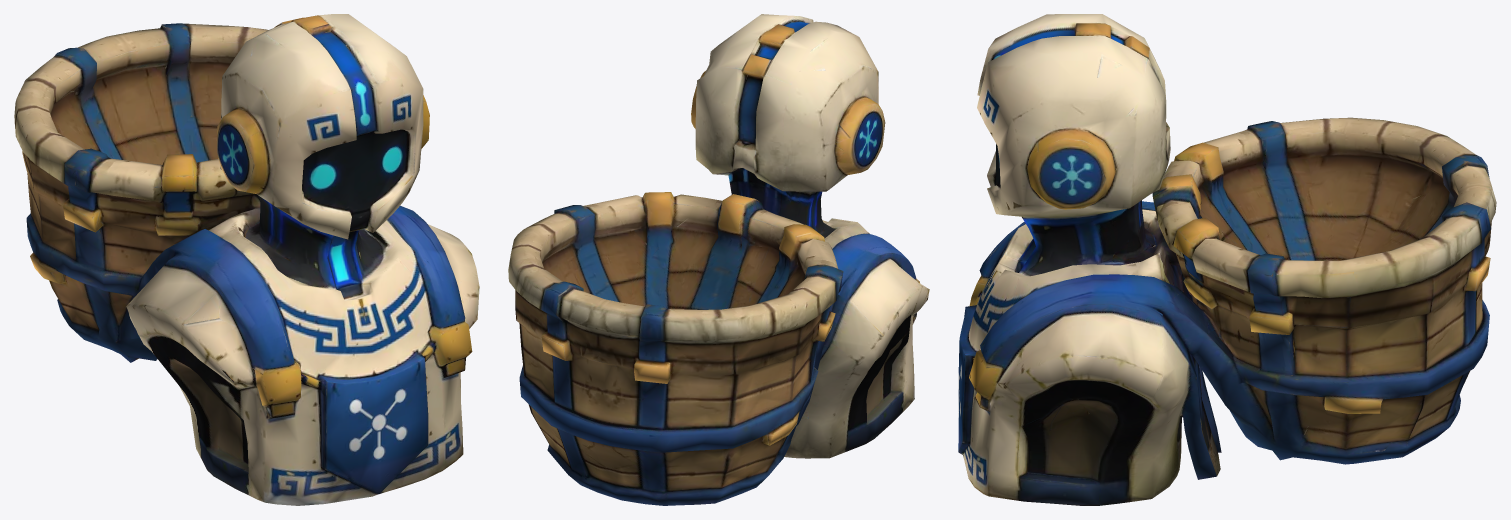
Rendered from agent.glb.
3 views of the same model, side by side, from view 1: azimuth 30°, elevation 25°; view 2: azimuth 150°, elevation 25°; view 3: azimuth 270°, elevation 25° (orthographic). The views are drawn at different scales.
Visible parts, largest first — view 1: Mesh1.0; view 2: Mesh1.0; view 3: Mesh1.0.
Part boxes in pixels (bbox=[...]): Mesh1.0: bbox=[14, 14, 479, 505]; Mesh1.0: bbox=[508, 14, 929, 505]; Mesh1.0: bbox=[958, 14, 1496, 505].
Bounding box in the file's own units: 0.7774 × 1 × 1.12.
1 material, 1 textured.
